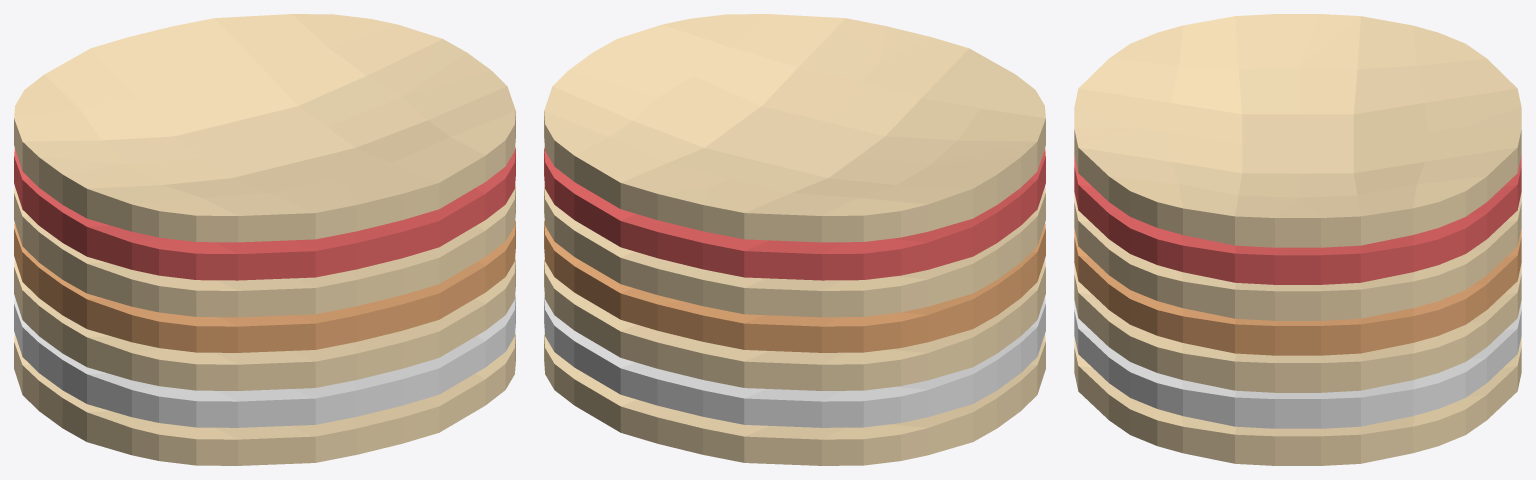
File: Dishes.fbx
3 renders of one model, left to right at view 1: azimuth 30°, elevation 25°; view 2: azimuth 150°, elevation 25°; view 3: azimuth 270°, elevation 25°, orthographic. The views are drawn at different scales.
Parts seen in each view (by area): view 1: Plane.003; view 2: Plane.003; view 3: Plane.003.
Boxes of the visible parts, left/top/right/bottom form: Plane.003: left=14, top=14, right=515, bottom=465; Plane.003: left=544, top=14, right=1045, bottom=465; Plane.003: left=1074, top=14, right=1521, bottom=465.
Size of the model in its own units: 0.1993 by 0.1239 by 0.1846.
